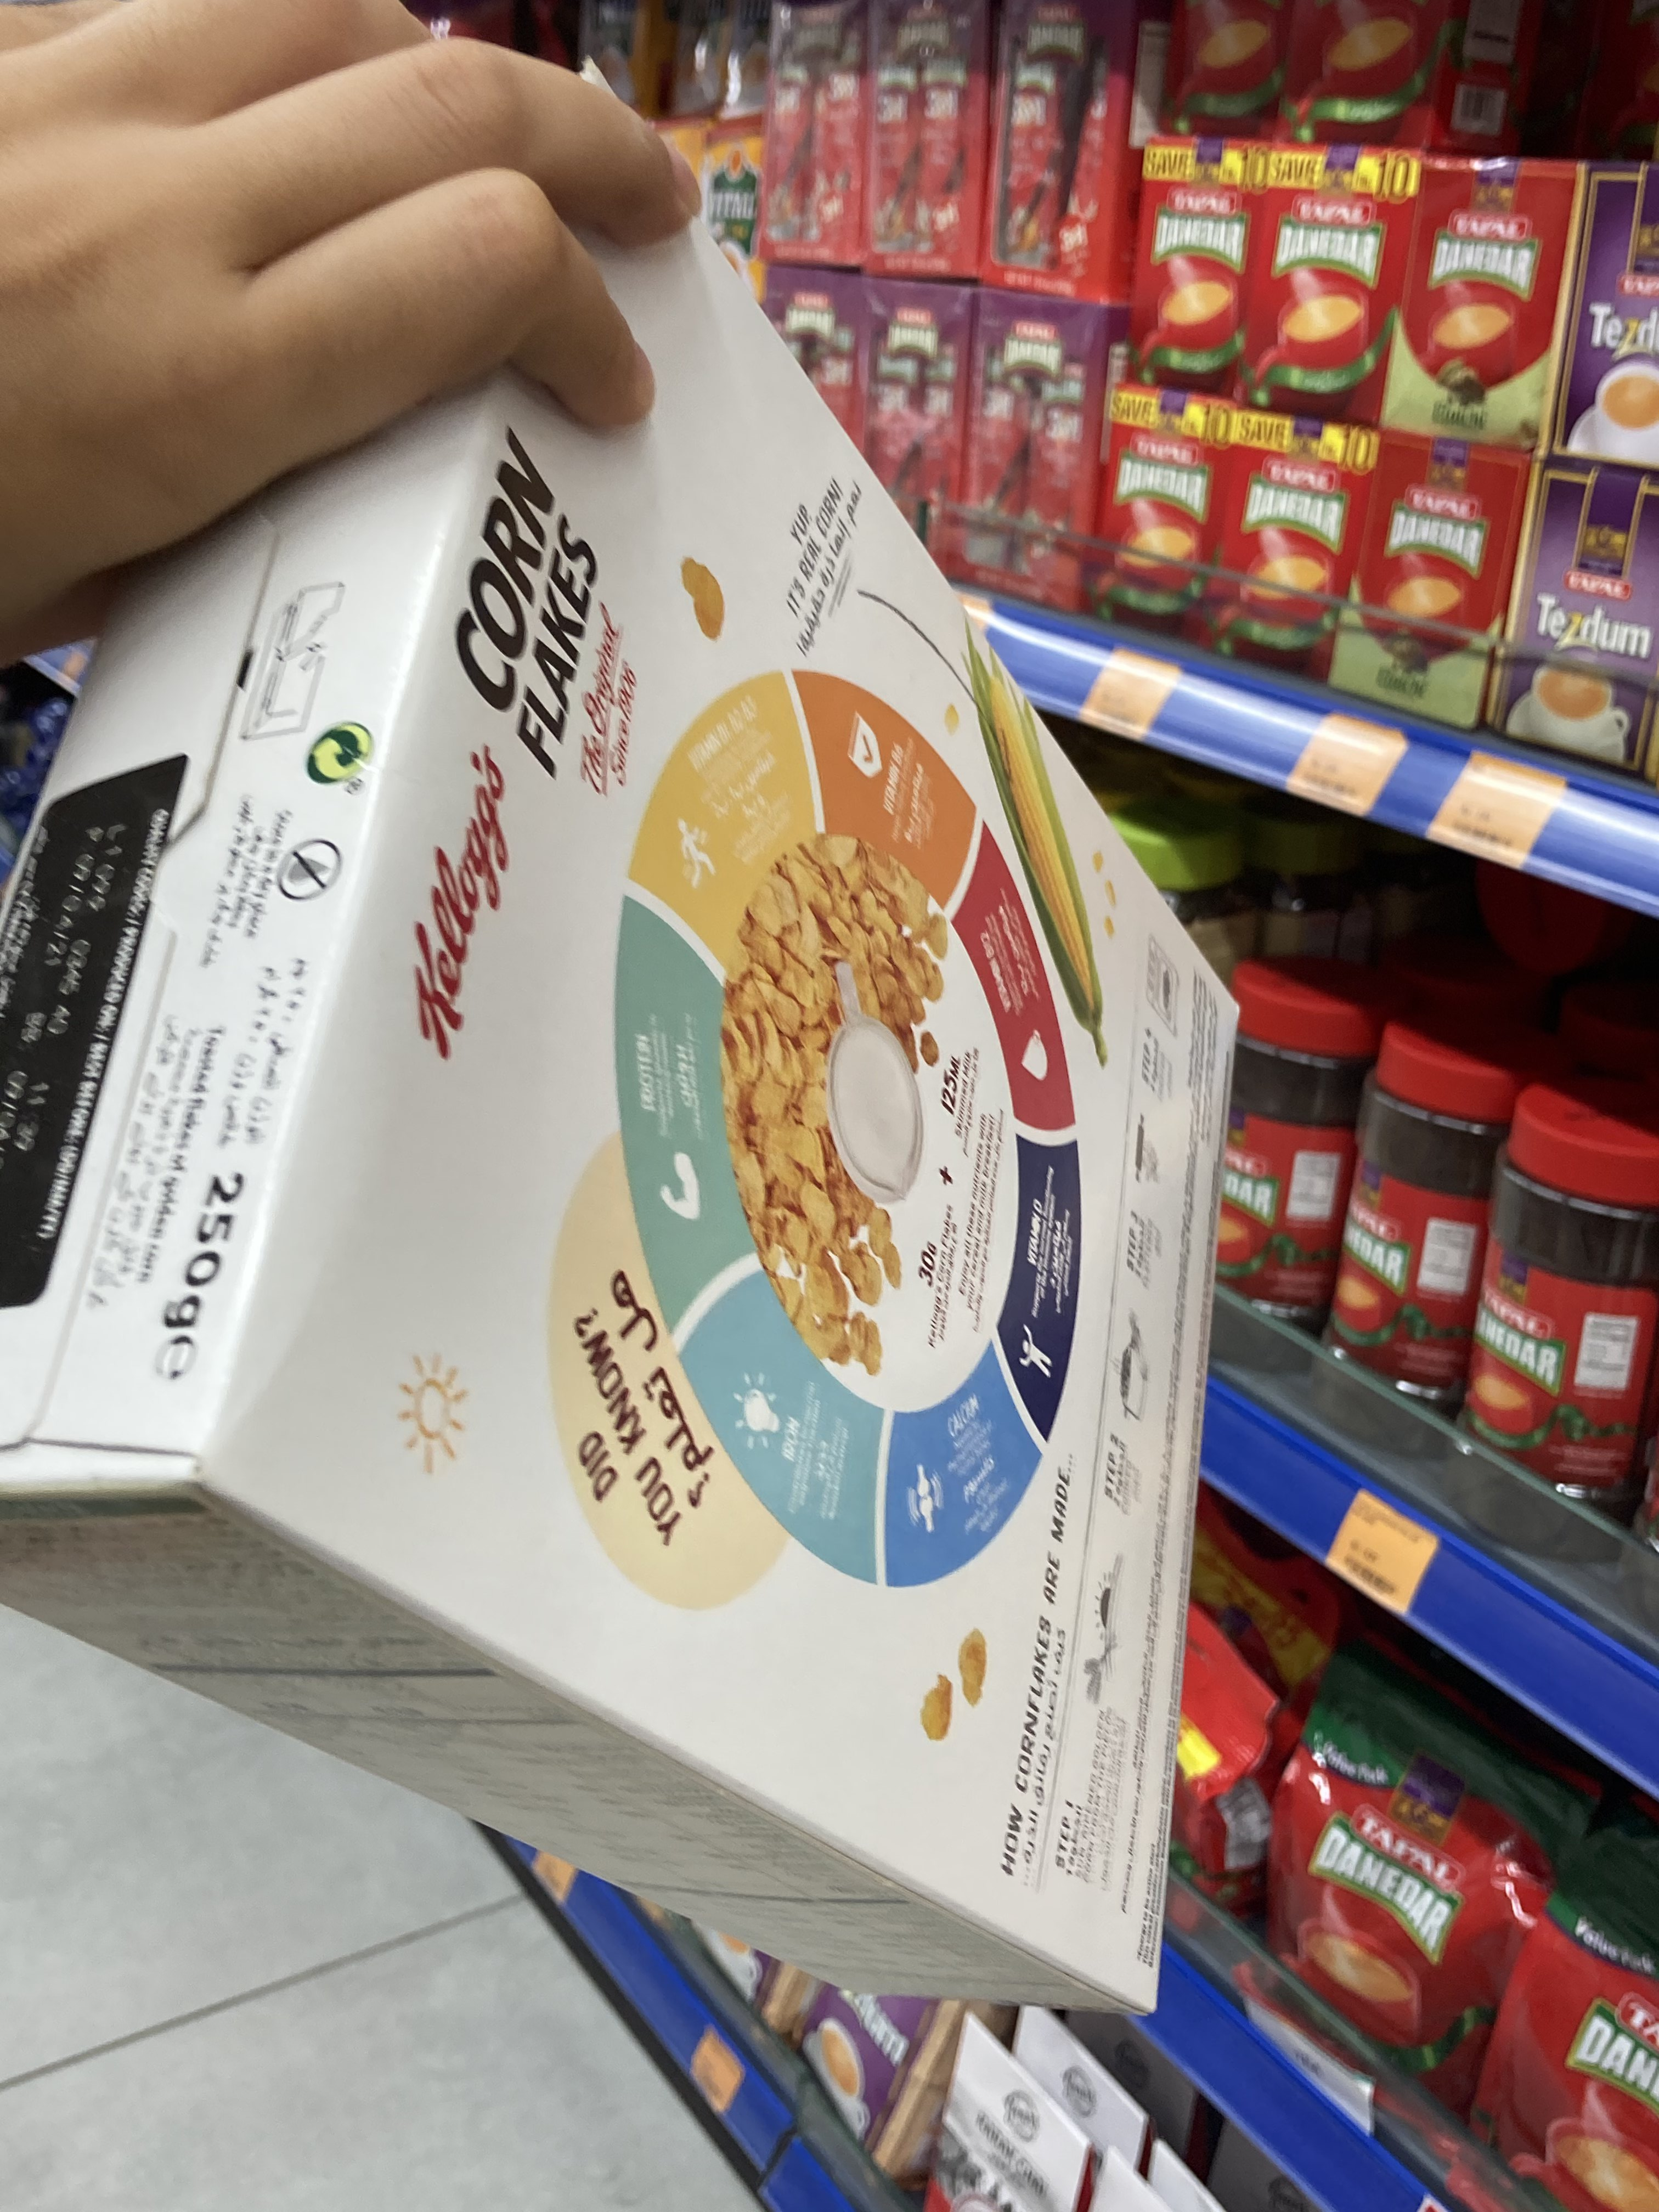Kellogg's Corn Flakes: (9, 77, 1239, 2012)
